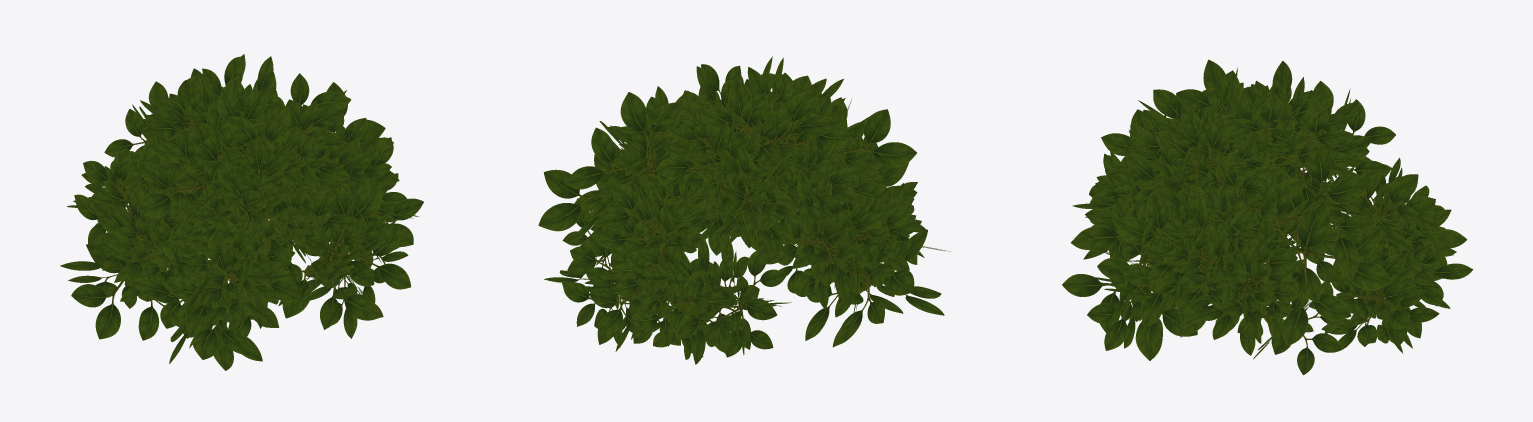
The model's file is Bush01.fbx.
3 renders of one model, left to right at view 1: azimuth 30°, elevation 25°; view 2: azimuth 150°, elevation 25°; view 3: azimuth 270°, elevation 25°, orthographic. The views are drawn at different scales.
Visible parts, largest first — view 1: Bush01_LOD0; view 2: Bush01_LOD0; view 3: Bush01_LOD0.
Boxes of the visible parts, x1,y1,x2,y2 form: Bush01_LOD0: [60, 54, 423, 370]; Bush01_LOD0: [538, 56, 949, 364]; Bush01_LOD0: [1062, 59, 1473, 374].
Size of what is drawn, in the model's own units: 1.75 by 1.32 by 1.76.
